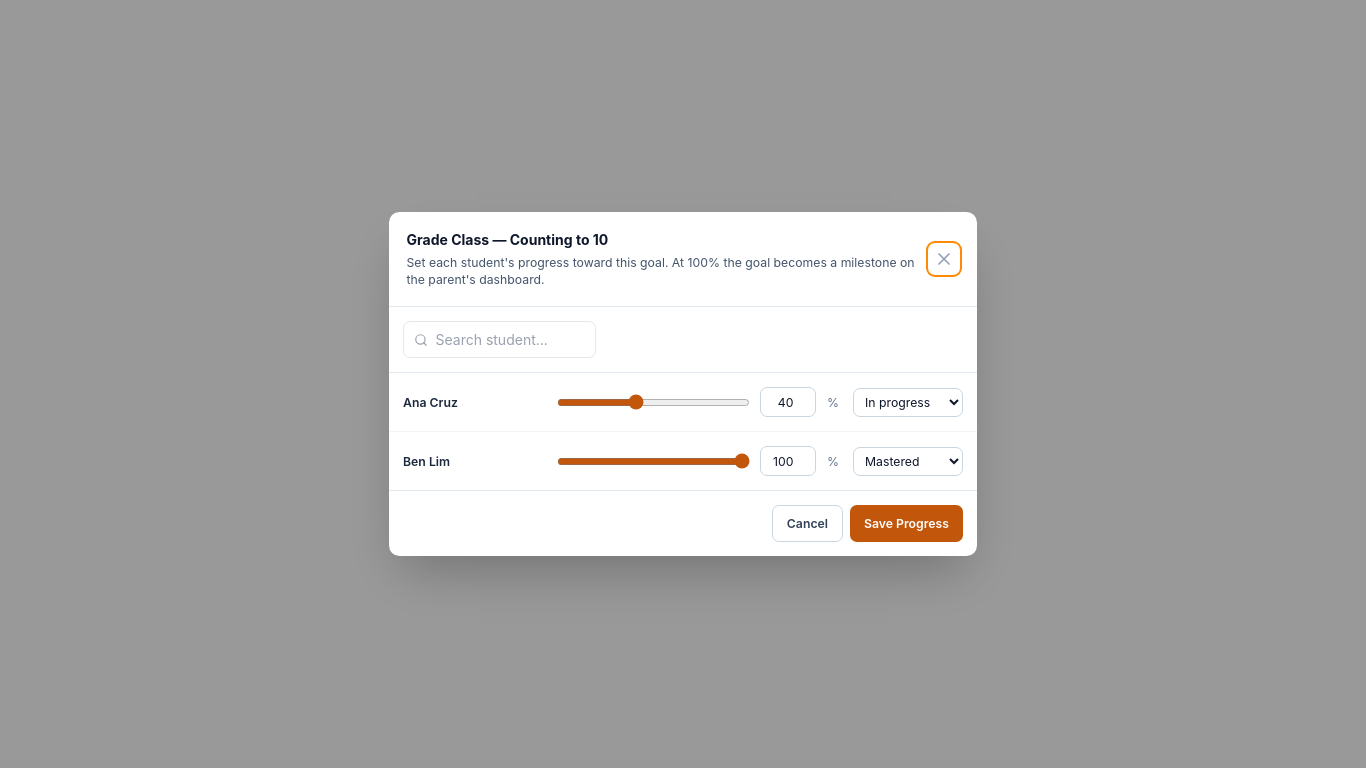
Test: GradeGoalModal — Mastered means 100% › lowering a Mastered student's progress takes them off Mastered
Replace the text in the number field named "Ben Lim progress percent" with "80" at point(788, 461), box [760,446,816,476]
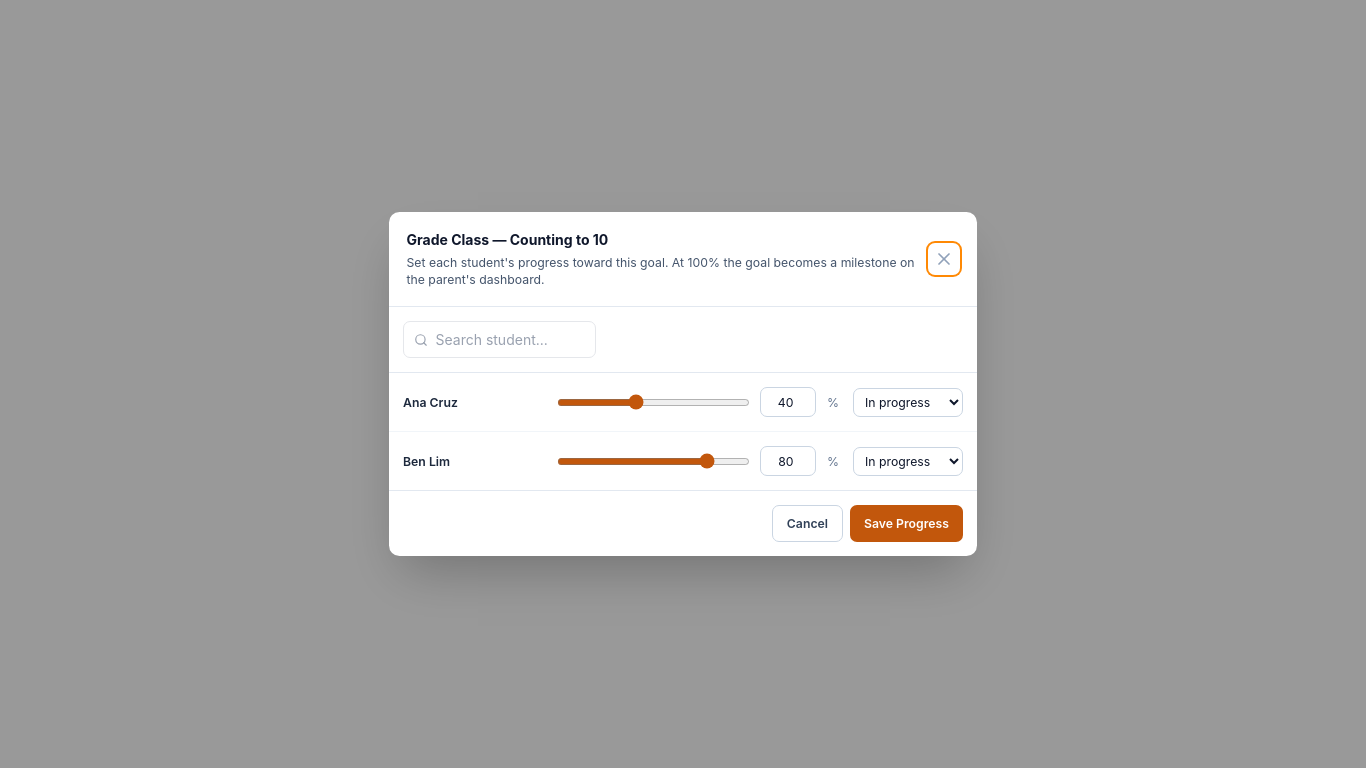
Expected: the dropdown named "Ben Lim status" shows "In progress", [853,446,963,476]
